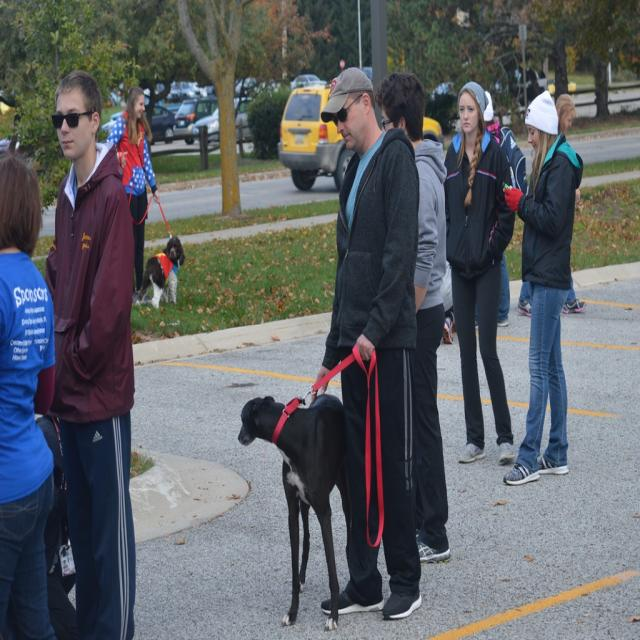body: (304, 65, 423, 622), (38, 69, 138, 640), (374, 69, 452, 564), (500, 89, 586, 489), (438, 80, 519, 468), (0, 141, 61, 639), (516, 92, 588, 318), (102, 83, 160, 310), (480, 91, 512, 327), (0, 103, 38, 171), (436, 256, 454, 348)
